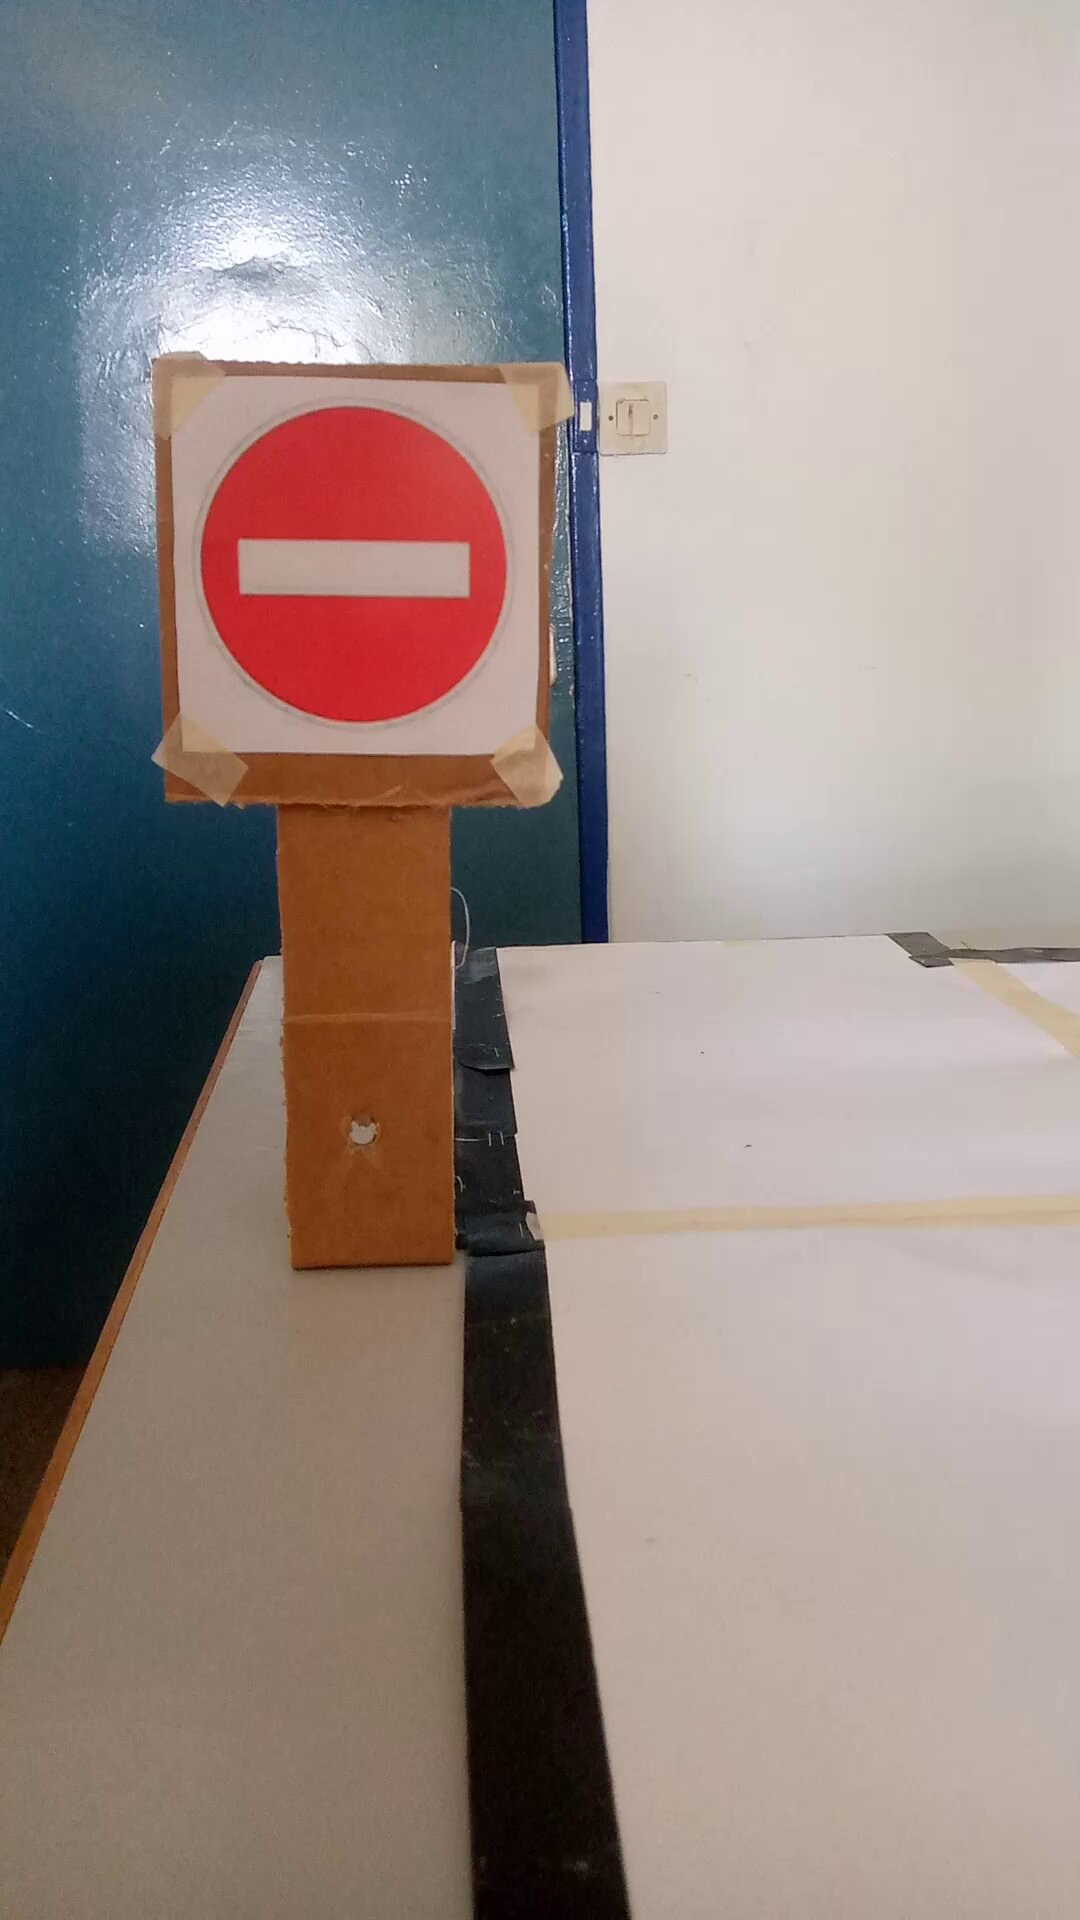panel010: (153, 351, 560, 803)
